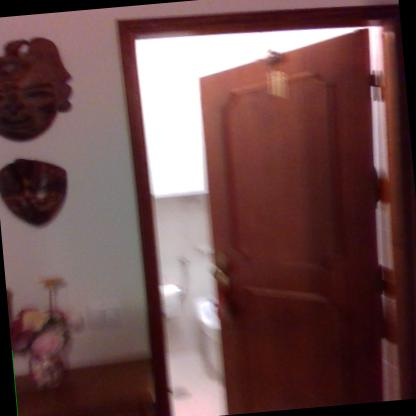semi: (103, 0, 415, 415)
